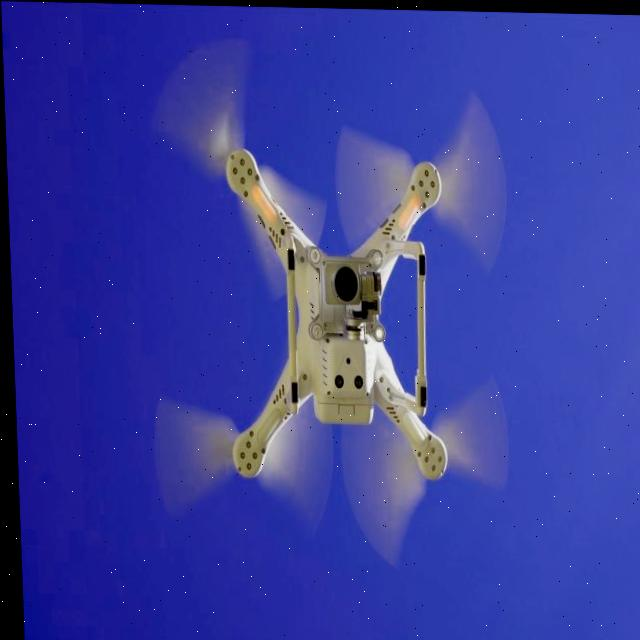drone: (112, 85, 541, 534)
